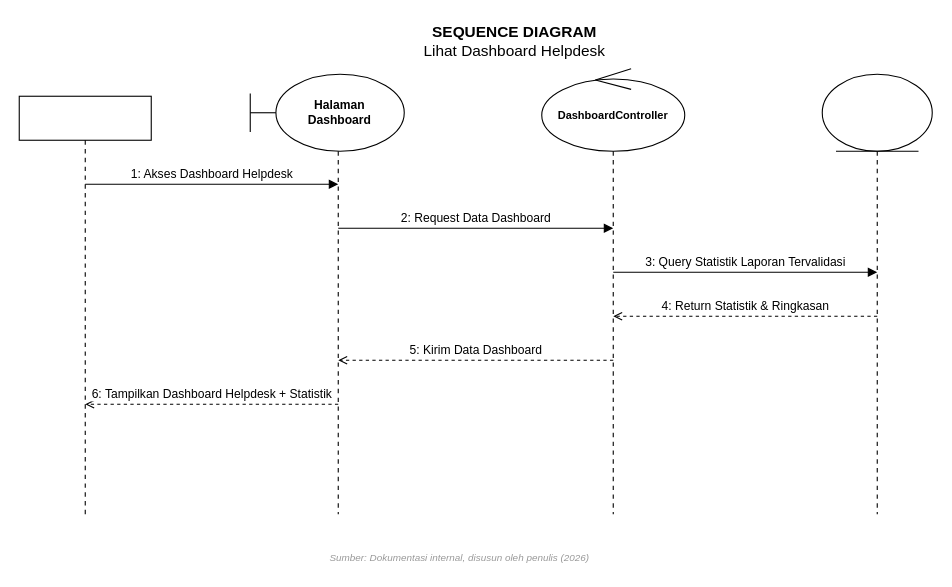
Some shapes in this 952 by 587 pixel diagram are drawn without their labels. The centre of each missing label's shape, as x and y in pixels:
Database: the point at 876,112
Helpdesk: the point at 84,117
